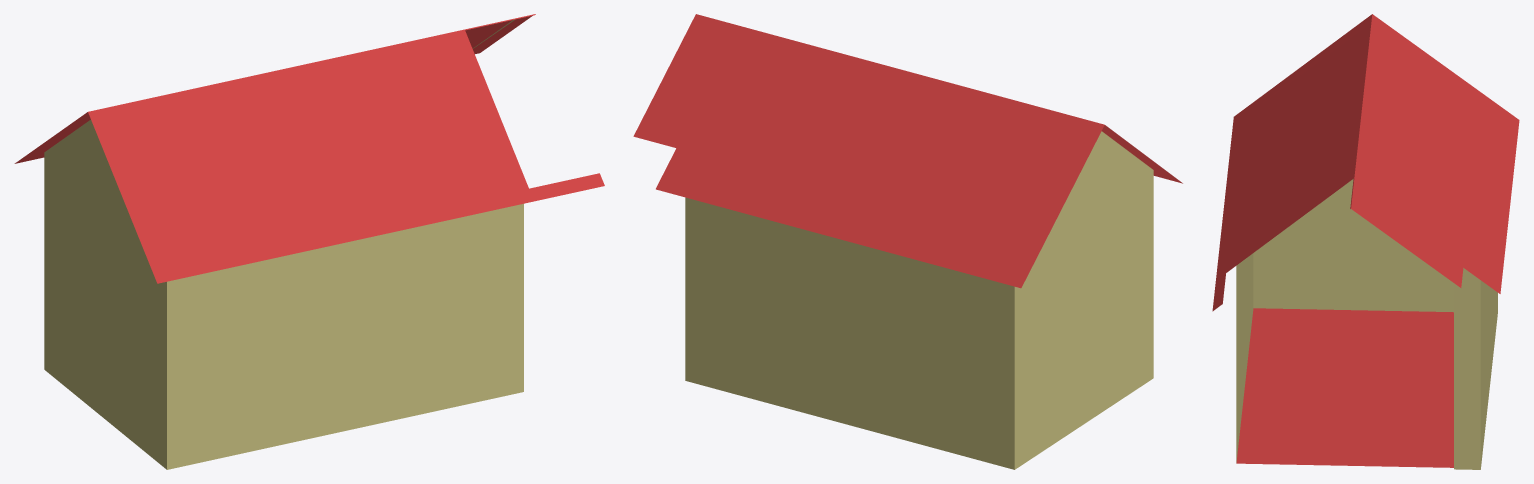
3 views of the same model, side by side, from view 1: azimuth 30°, elevation 25°; view 2: azimuth 150°, elevation 25°; view 3: azimuth 270°, elevation 25° (orthographic). The views are drawn at different scales.
Size of the model in its own units: 22.9 by 14.88 by 15.39.
